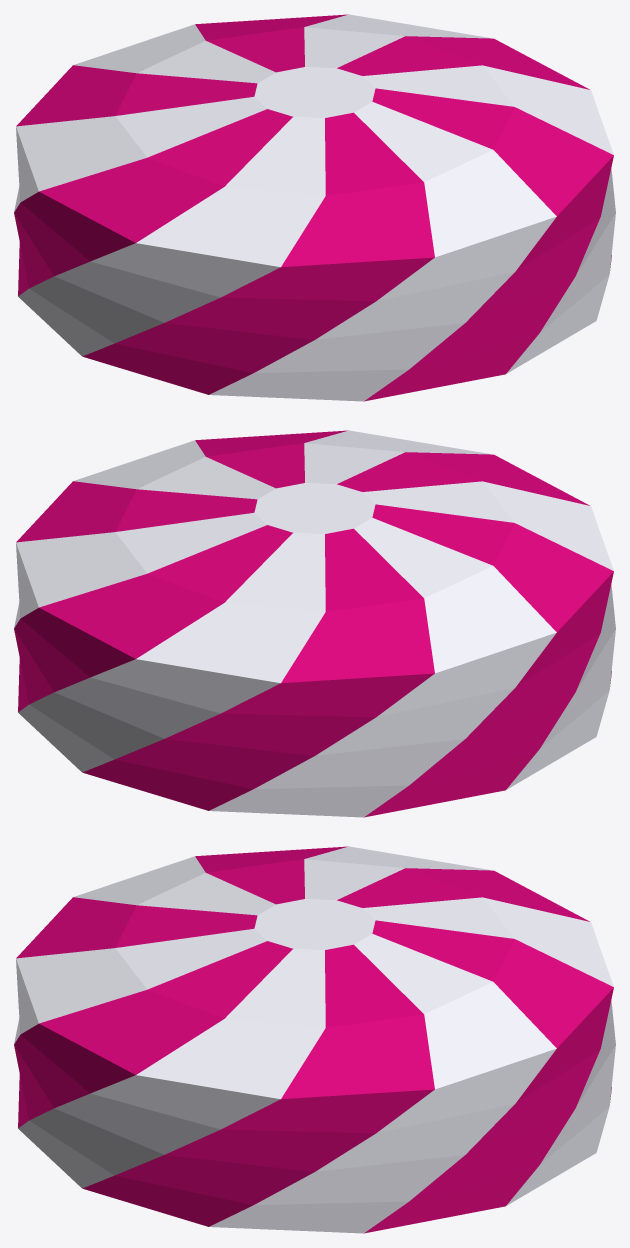
File: candy_arch2.fbx
3 views of the same model, one above another, from view 1: azimuth 30°, elevation 25°; view 2: azimuth 150°, elevation 25°; view 3: azimuth 270°, elevation 25° (orthographic).
Visible parts, largest first — view 1: candy_arch2; view 2: candy_arch2; view 3: candy_arch2.
Part boxes in pixels (left/top/right/bottom): candy_arch2: left=14, top=14, right=615, bottom=401; candy_arch2: left=14, top=430, right=615, bottom=817; candy_arch2: left=14, top=846, right=615, bottom=1233.
Bounding box in the file's own units: 162 × 68.25 × 162.
1 material, 1 textured.
